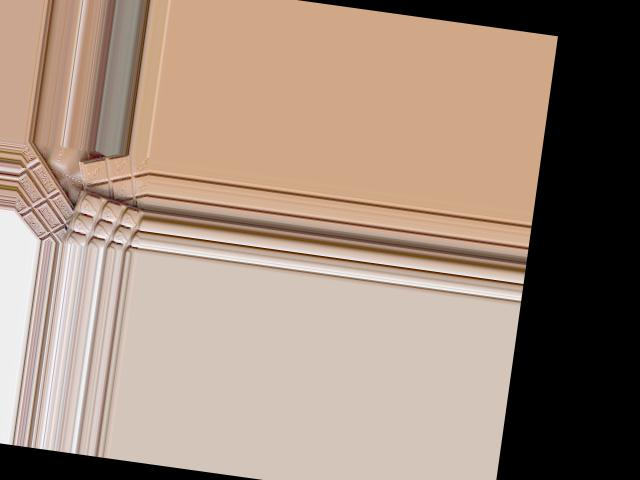chocolate: (73, 154, 151, 219)
